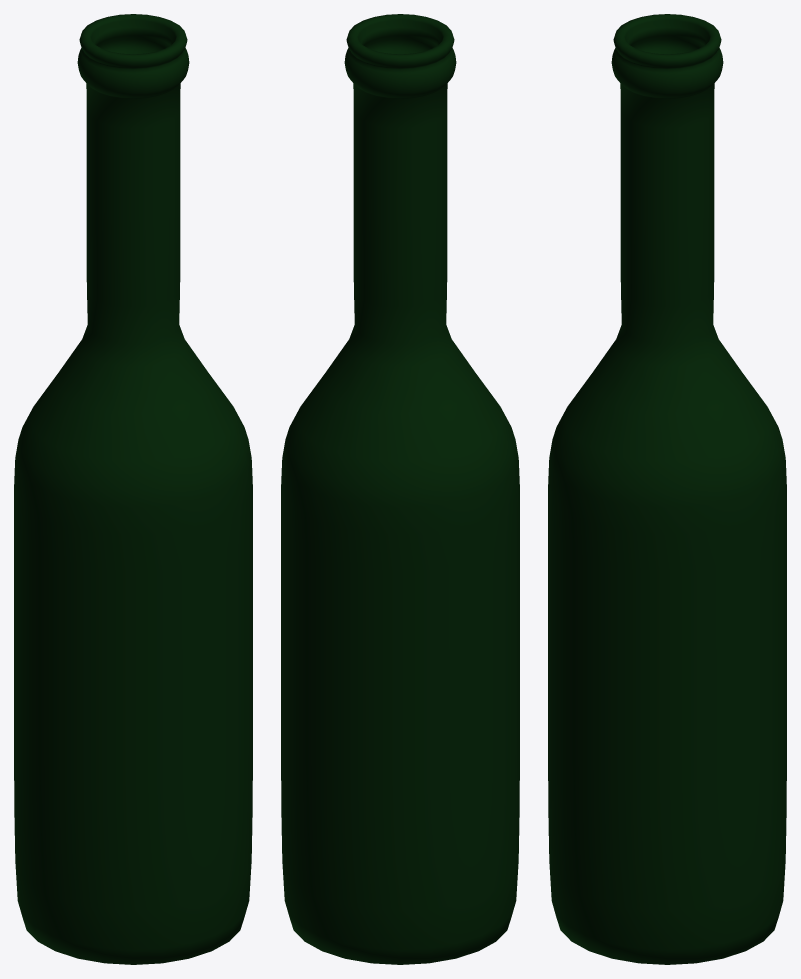
Rendered from Bottle.FBX.
3 renders of one model, left to right at view 1: azimuth 30°, elevation 25°; view 2: azimuth 150°, elevation 25°; view 3: azimuth 270°, elevation 25°, orthographic.
Parts seen in each view (by area): view 1: Cylinder001; view 2: Cylinder001; view 3: Cylinder001.
Part boxes in pixels (x1,y1,x2,y2): Cylinder001: (14,14,252,964); Cylinder001: (281,14,519,964); Cylinder001: (548,14,786,964).
Bounding box in the file's own units: 27.36 × 112 × 27.36.
